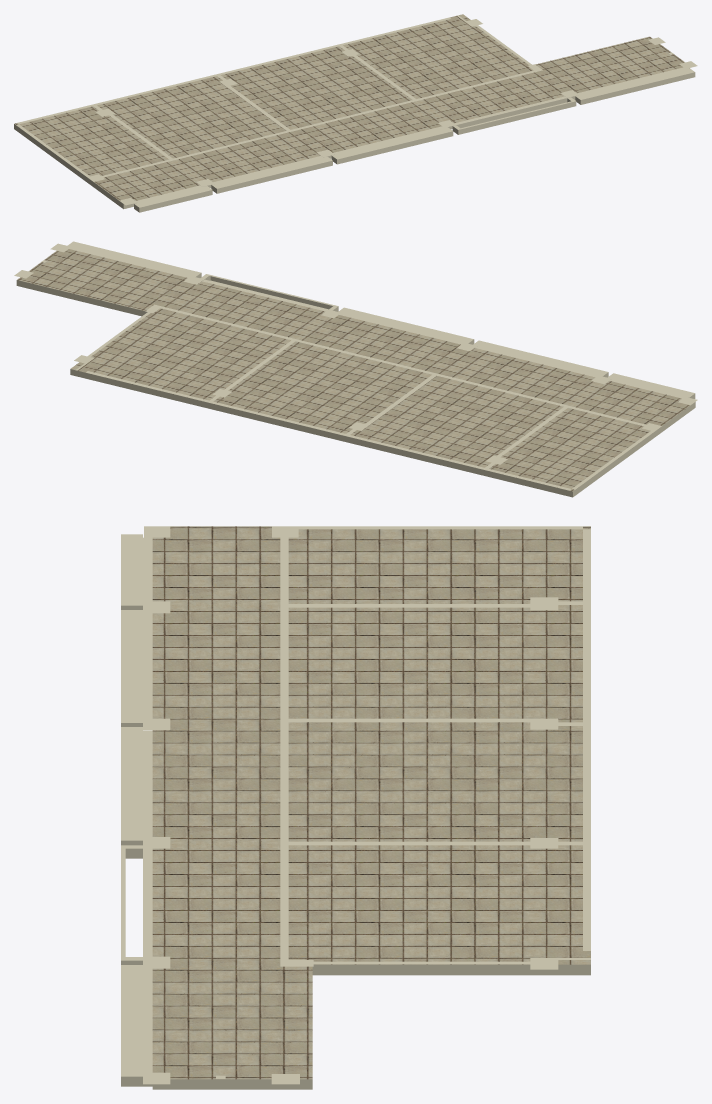
File: 3rd_Floor.fbx
The picture shows the model from 3 angles, top to bottom: view 1: azimuth 30°, elevation 25°; view 2: azimuth 150°, elevation 25°; view 3: azimuth 270°, elevation 25°; orthographic projection. The views are drawn at different scales.
Parts seen in each view (by area): view 1: 3rd_Floor; view 2: 3rd_Floor; view 3: 3rd_Floor.
Boxes of the visible parts, <box> form: 3rd_Floor: <box>14,14,697,212</box>; 3rd_Floor: <box>14,241,697,497</box>; 3rd_Floor: <box>121,526,590,1089</box>.
Bounding box in the file's own units: 4518 × 40.78 × 1607.
Materials: 2 (2 with a texture image).
